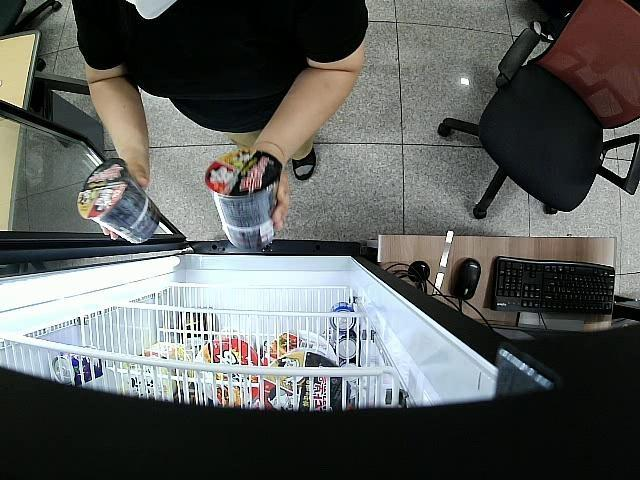08_buldak_S: (206, 150, 282, 248), (76, 162, 161, 244)
